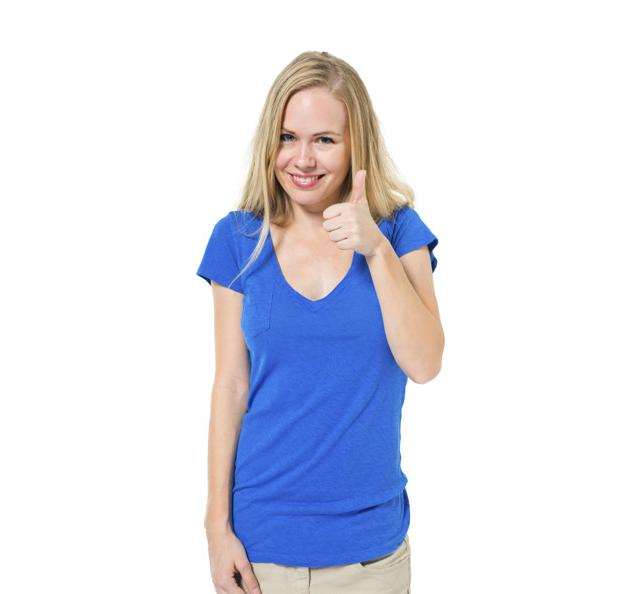thumbsup: (322, 169, 369, 251)
